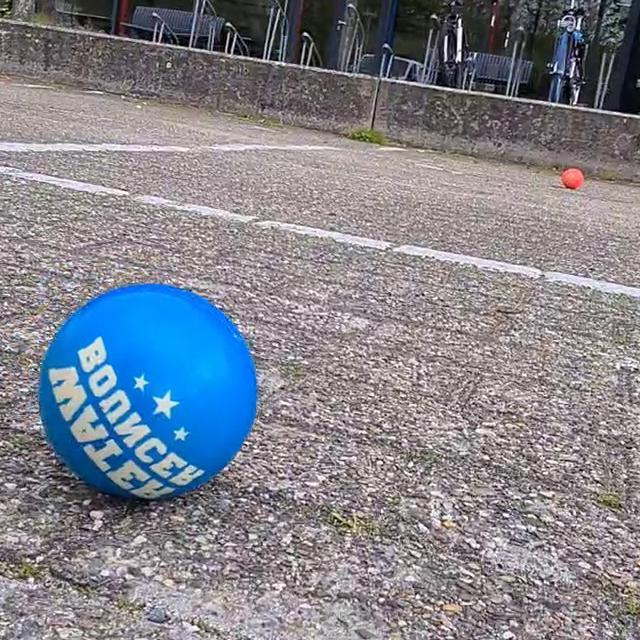ball: (559, 163, 586, 199)
